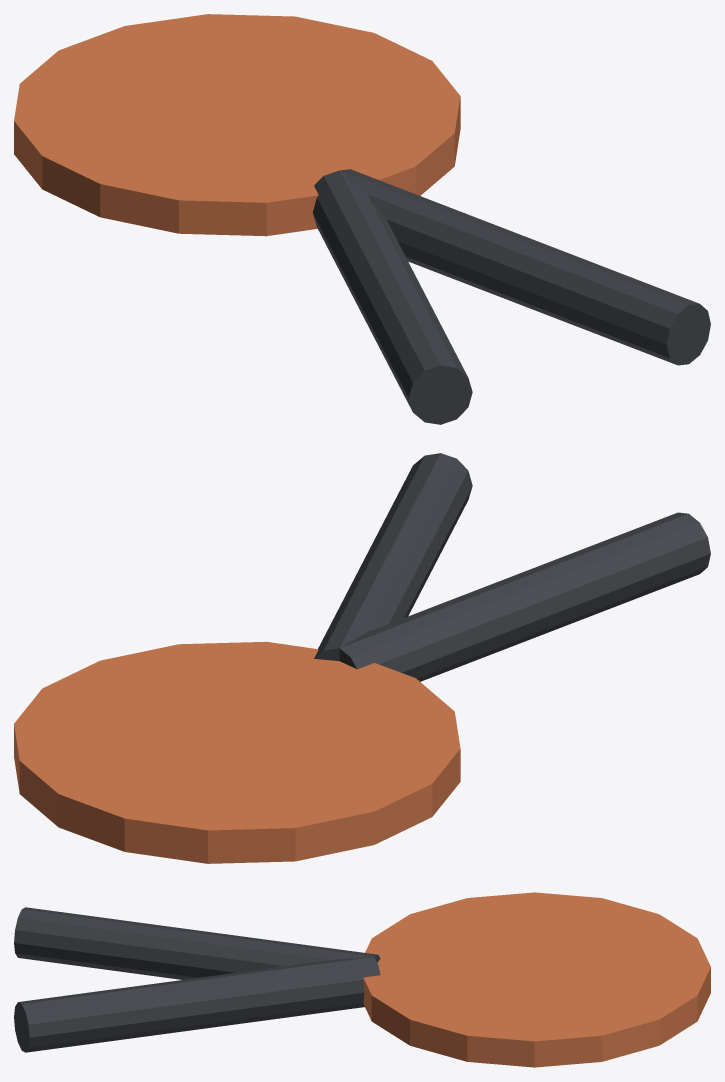
The picture shows the model from 3 angles, top to bottom: view 1: azimuth 30°, elevation 25°; view 2: azimuth 150°, elevation 25°; view 3: azimuth 270°, elevation 25°; orthographic projection. The views are drawn at different scales.
Parts seen in each view (by area): view 1: geometry_0; view 2: geometry_0; view 3: geometry_0.
Boxes of the visible parts, left/top/right/bottom form: geometry_0: left=14, top=14, right=710, bottom=424; geometry_0: left=14, top=453, right=710, bottom=863; geometry_0: left=14, top=892, right=710, bottom=1067.
Bounding box in the file's own units: 0.11 × 0.02 × 0.2174.
